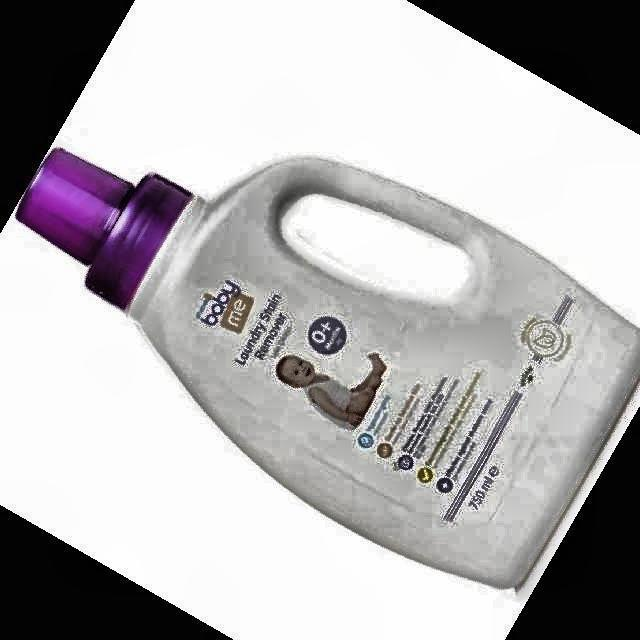plastic: (19, 150, 640, 587)
